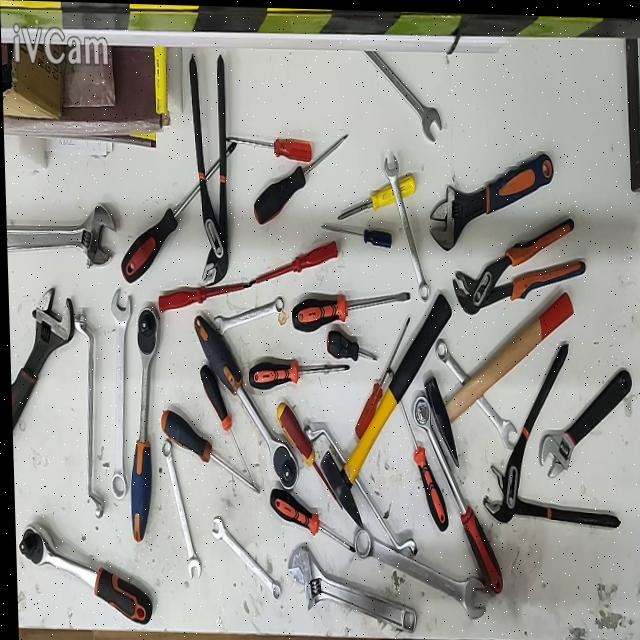Screwdriver: (120, 141, 238, 282), (386, 364, 446, 528), (253, 134, 347, 224), (158, 408, 257, 493), (275, 400, 339, 510), (352, 314, 408, 439), (197, 362, 248, 477), (267, 486, 352, 551), (290, 289, 408, 329), (249, 239, 337, 282), (335, 174, 414, 217), (246, 358, 347, 388), (157, 282, 251, 312), (226, 134, 312, 160), (320, 224, 390, 247), (325, 328, 376, 359)
